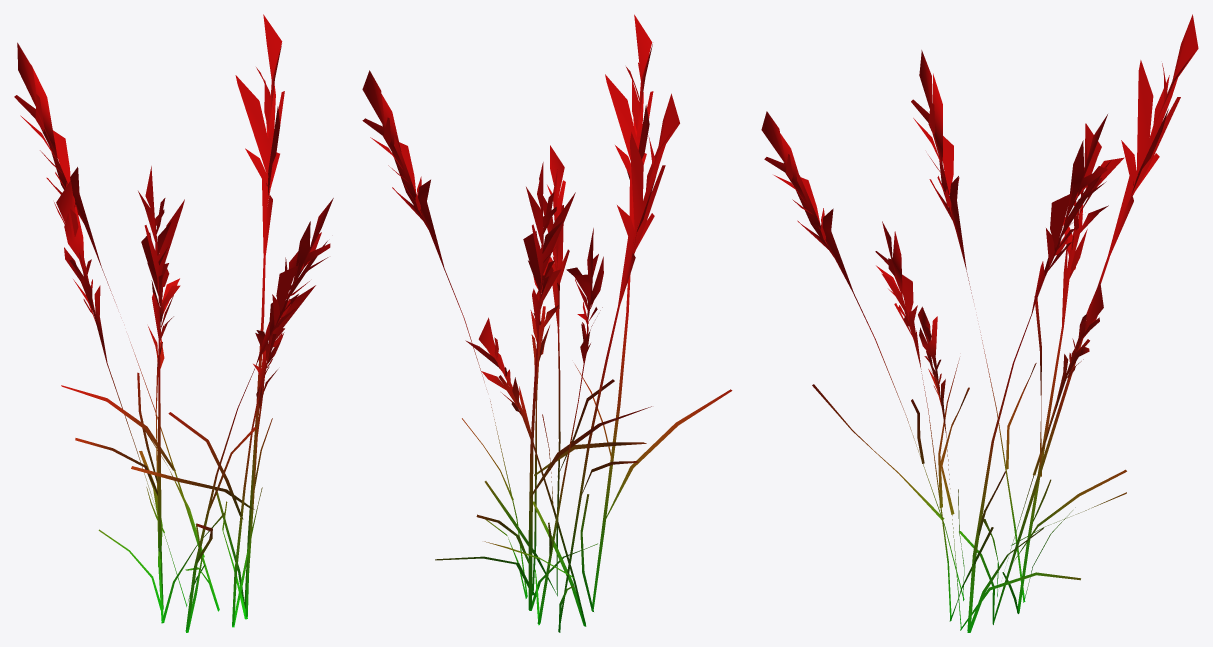
File: Tundra Grass_LOD4_Var19_wk2oaeyqx.fbx
3 views of the same model, side by side, from view 1: azimuth 30°, elevation 25°; view 2: azimuth 150°, elevation 25°; view 3: azimuth 270°, elevation 25° (orthographic). The views are drawn at different scales.
Parts seen in each view (by area): view 1: _gksj_Var19_LOD4; view 2: _gksj_Var19_LOD4; view 3: _gksj_Var19_LOD4.
Part boxes in pixels (<box>): _gksj_Var19_LOD4: <box>14,14,333,632</box>; _gksj_Var19_LOD4: <box>362,14,732,632</box>; _gksj_Var19_LOD4: <box>761,14,1198,632</box>.
Bounding box in the file's own units: 28.27 × 57.75 × 40.61.
